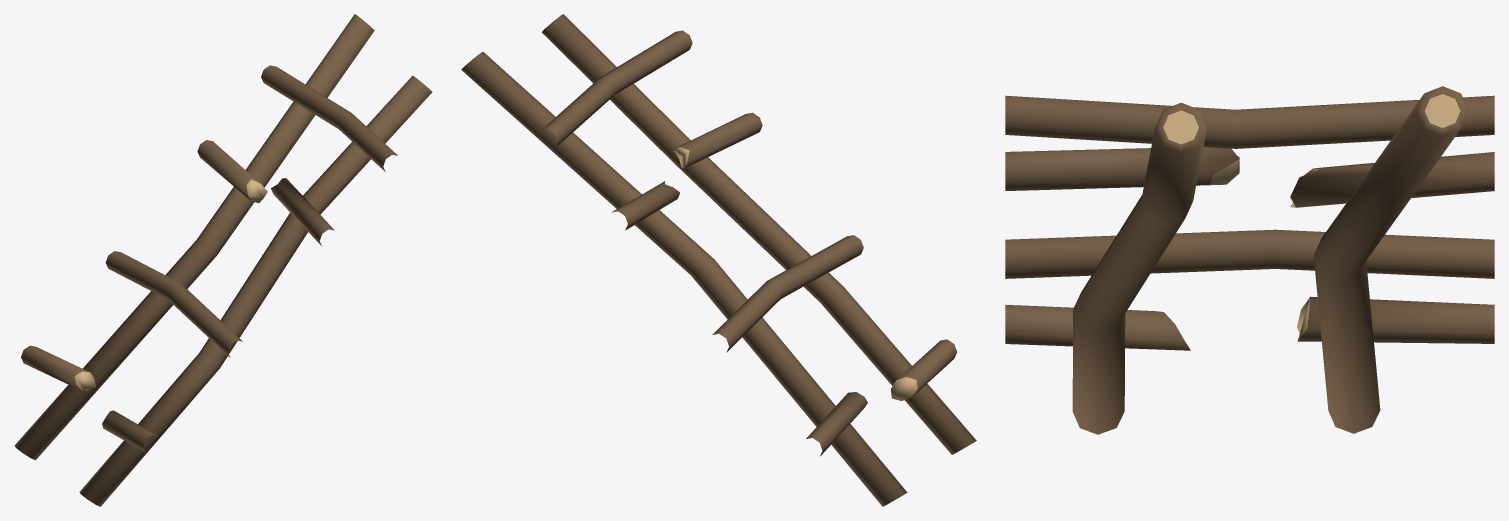
Rendered from rpgpp_av_roof_support_01_9x4x3_half_b.gltf.
The picture shows the model from 3 angles, left to right: view 1: azimuth 30°, elevation 25°; view 2: azimuth 150°, elevation 25°; view 3: azimuth 270°, elevation 25°; orthographic projection. The views are drawn at different scales.
Parts seen in each view (by area): view 1: rpgpp_av_roof_support_01_9x4x3_half_b; view 2: rpgpp_av_roof_support_01_9x4x3_half_b; view 3: rpgpp_av_roof_support_01_9x4x3_half_b.
Boxes of the visible parts, x1,y1,x2,y2 form: rpgpp_av_roof_support_01_9x4x3_half_b: (14,14,432,506); rpgpp_av_roof_support_01_9x4x3_half_b: (461,14,976,506); rpgpp_av_roof_support_01_9x4x3_half_b: (1005,86,1494,434).
Bounding box in the file's own units: 0.0536 × 0.0463 × 0.03.
1 material, 1 textured.
